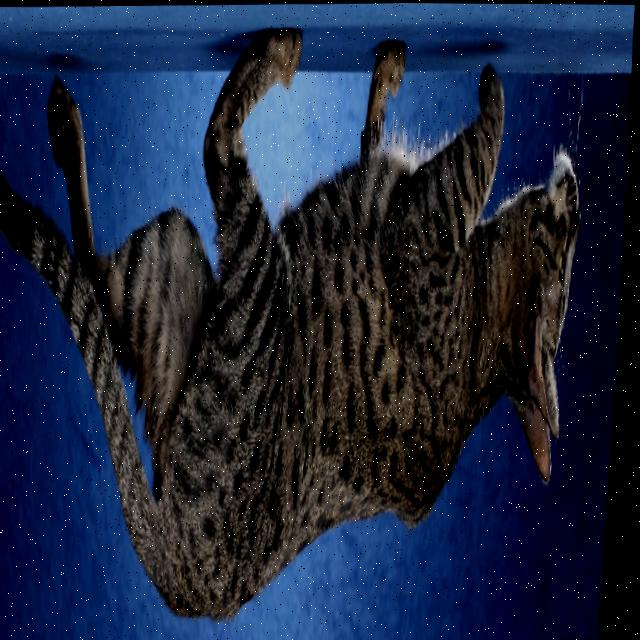Savannah: (0, 0, 605, 640)
